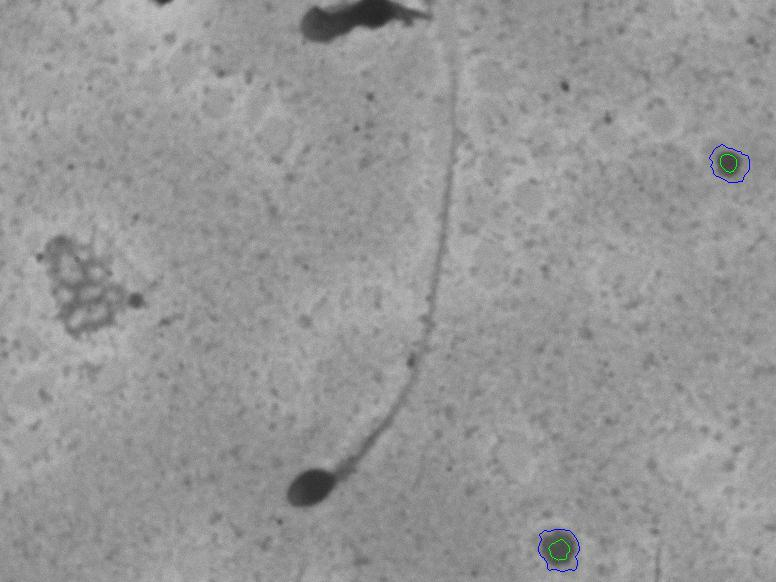Abnormal: (263, 117, 502, 529)
